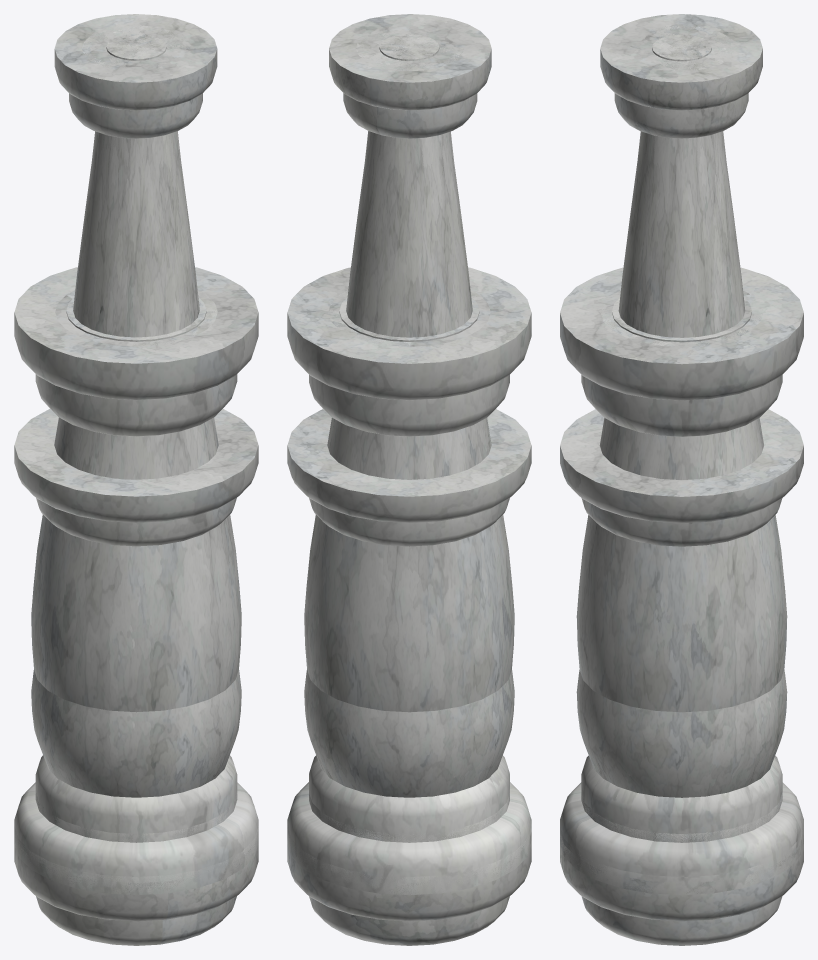
File: Pillars.fbx
The picture shows the model from 3 angles, left to right: view 1: azimuth 30°, elevation 25°; view 2: azimuth 150°, elevation 25°; view 3: azimuth 270°, elevation 25°; orthographic projection.
Visible parts, largest first — view 1: Pillar 03 Thick Capped 6h, Pillar 01 Thick Capped 4h, Pillar 01 Thick Capped 3h, Pillar 03 Thick Capped 4h, Pillar 01 Thick T, Pillar 03 Thick 6h, Pillar 02 Thin Capped 4h, Pillar 03 Thin Capped 6h, Pillar 01 Thick 4h; view 2: Pillar 03 Thick Capped 6h, Pillar 01 Thick Capped 4h, Pillar 01 Thick Capped 3h, Pillar 03 Thick Capped 4h, Pillar 01 Thick T, Pillar 03 Thick 6h, Pillar 01 Thick 4h, Pillar 02 Thin Capped 4h, Pillar 03 Thin Capped 6h, Pillar 01 Thin Capped 4h; view 3: Pillar 03 Thick Capped 6h, Pillar 01 Thick Capped 4h, Pillar 01 Thick Capped 3h, Pillar 03 Thick Capped 4h, Pillar 01 Thick T, Pillar 03 Thick 6h, Pillar 03 Thin Capped 6h, Pillar 01 Thick 4h, Pillar 01 Thin Capped 4h.
Part boxes in pixels (box(x1,y1,x2,y2)): Pillar 03 Thick Capped 6h: box(31, 14, 241, 842); Pillar 01 Thick Capped 4h: box(14, 267, 258, 894); Pillar 01 Thick Capped 3h: box(14, 409, 258, 895); Pillar 03 Thick Capped 4h: box(14, 669, 258, 894); Pillar 01 Thick T: box(14, 844, 258, 945); Pillar 03 Thick 6h: box(92, 34, 180, 179); Pillar 02 Thin Capped 4h: box(55, 291, 217, 346); Pillar 03 Thin Capped 6h: box(82, 25, 189, 68); Pillar 01 Thick 4h: box(66, 297, 206, 341); Pillar 03 Thick Capped 6h: box(304, 14, 514, 842); Pillar 01 Thick Capped 4h: box(287, 267, 531, 894); Pillar 01 Thick Capped 3h: box(287, 409, 531, 895); Pillar 03 Thick Capped 4h: box(292, 669, 531, 894); Pillar 01 Thick T: box(287, 844, 531, 945); Pillar 03 Thick 6h: box(365, 34, 453, 179); Pillar 01 Thick 4h: box(339, 297, 479, 341); Pillar 02 Thin Capped 4h: box(328, 290, 490, 346); Pillar 03 Thin Capped 6h: box(356, 29, 463, 71); Pillar 01 Thin Capped 4h: box(328, 290, 479, 346); Pillar 03 Thick Capped 6h: box(576, 14, 787, 842); Pillar 01 Thick Capped 4h: box(560, 267, 803, 894); Pillar 01 Thick Capped 3h: box(560, 409, 803, 895); Pillar 03 Thick Capped 4h: box(560, 670, 803, 894); Pillar 01 Thick T: box(560, 844, 803, 945); Pillar 03 Thick 6h: box(638, 34, 725, 179); Pillar 03 Thin Capped 6h: box(628, 25, 735, 71); Pillar 01 Thick 4h: box(612, 298, 751, 342); Pillar 01 Thin Capped 4h: box(600, 307, 762, 346).
Bounding box in the file's own units: 1.67 × 6.51 × 1.67.
